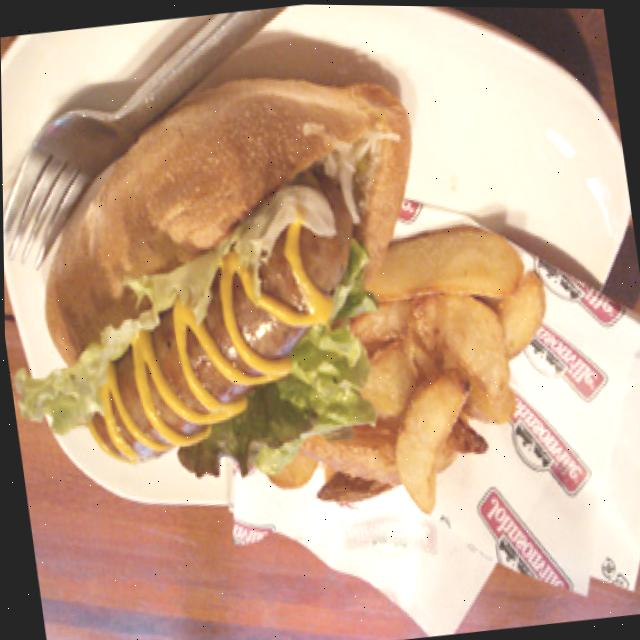汉堡快餐: (1, 61, 452, 486)
炸货点心: (185, 223, 584, 546)
